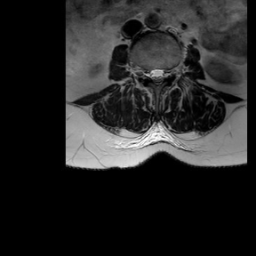CCS_normal: (154, 60, 160, 91)
LFS_normal: (166, 61, 173, 82)
LLS_normal: (160, 61, 166, 85)
RFS_normal: (143, 61, 149, 83)
RLS_normal: (149, 62, 154, 85)
